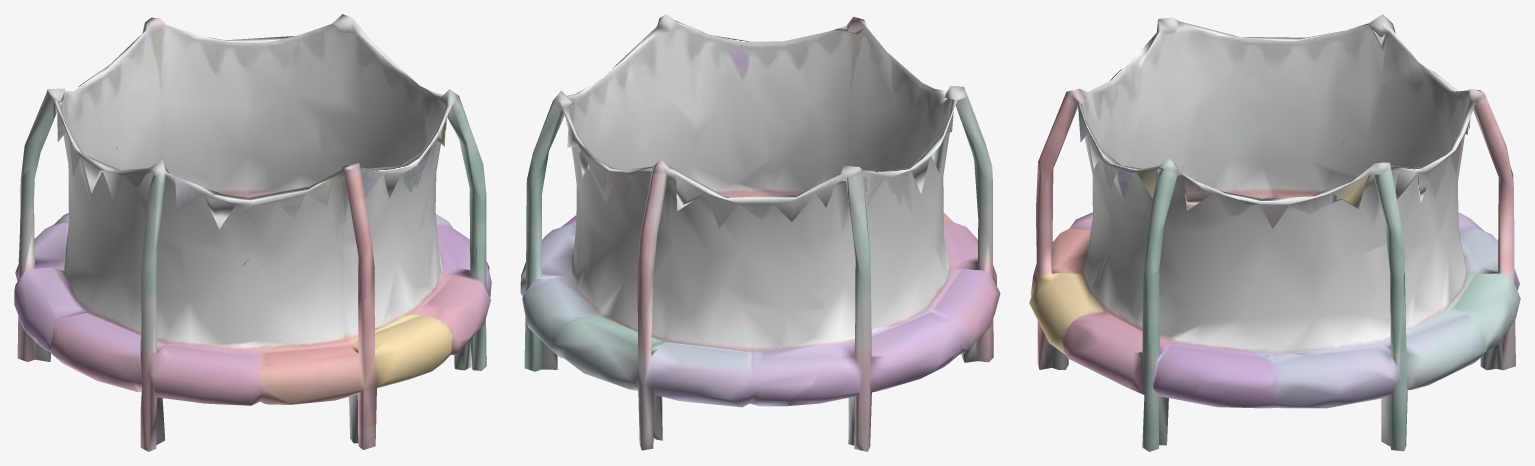
The model's file is trampoline.glb.
The picture shows the model from 3 angles, left to right: view 1: azimuth 30°, elevation 25°; view 2: azimuth 150°, elevation 25°; view 3: azimuth 270°, elevation 25°; orthographic projection.
Parts seen in each view (by area): view 1: tripo_node_d3391994-c89c-48b5-9ac1-51a60f7390fd; view 2: tripo_node_d3391994-c89c-48b5-9ac1-51a60f7390fd; view 3: tripo_node_d3391994-c89c-48b5-9ac1-51a60f7390fd.
Boxes of the visible parts, x1=… form: tripo_node_d3391994-c89c-48b5-9ac1-51a60f7390fd: x1=14, y1=14, x2=491, y2=451; tripo_node_d3391994-c89c-48b5-9ac1-51a60f7390fd: x1=520, y1=14, x2=1000, y2=451; tripo_node_d3391994-c89c-48b5-9ac1-51a60f7390fd: x1=1029, y1=14, x2=1520, y2=451.
Size of the model in its own units: 0.9919 by 0.6312 by 1.
1 material, 1 textured.
